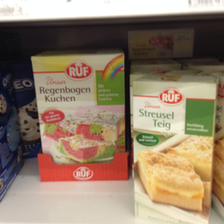cake: (129, 68, 219, 224), (29, 49, 127, 173)
